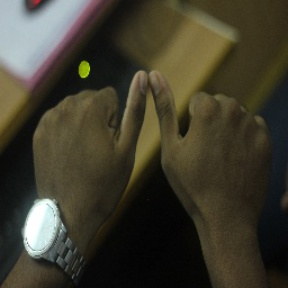A: (77, 63, 226, 200)
